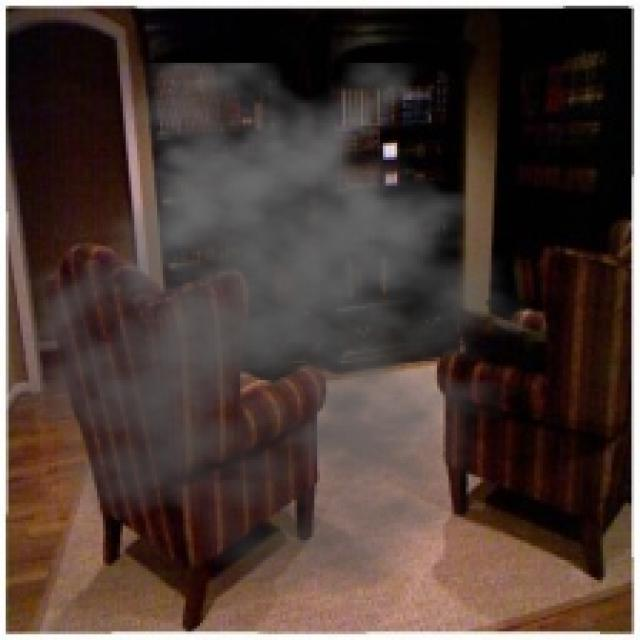smoke: (3, 63, 568, 597)
